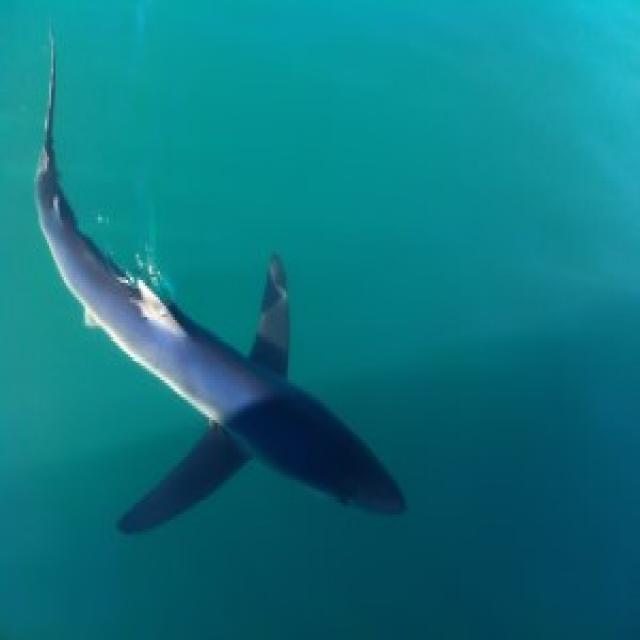Shark: (21, 10, 421, 578)
